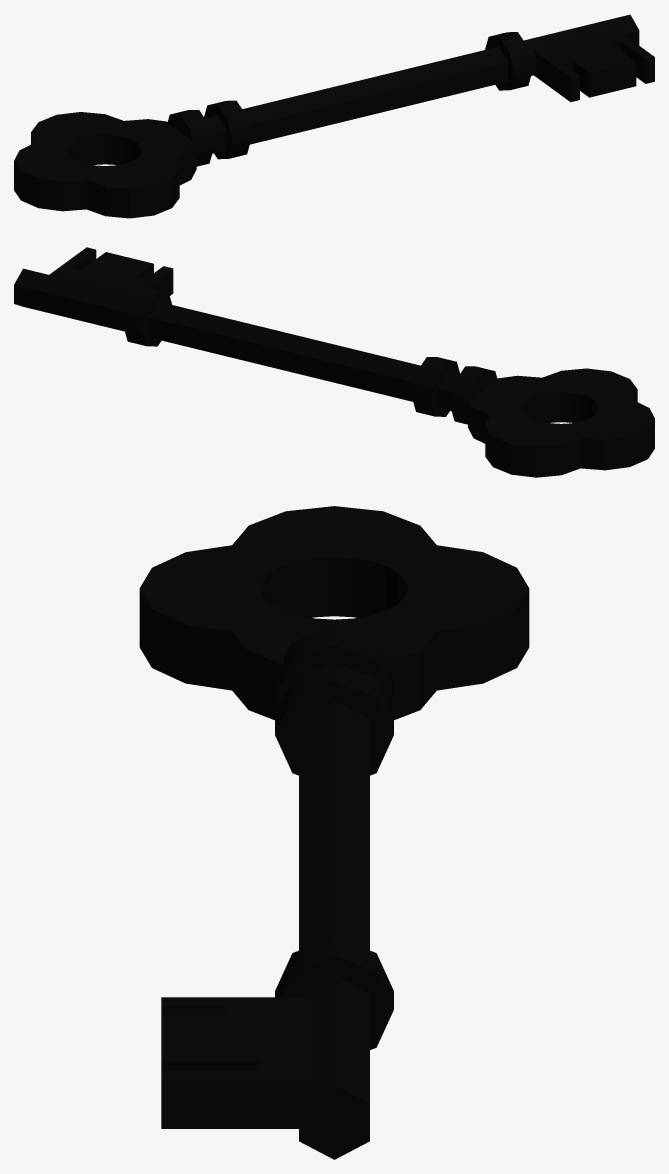
File: key_iron.fbx
3 views of the same model, one above another, from view 1: azimuth 30°, elevation 25°; view 2: azimuth 150°, elevation 25°; view 3: azimuth 270°, elevation 25° (orthographic). The views are drawn at different scales.
Parts seen in each view (by area): view 1: key_iron; view 2: key_iron; view 3: key_iron.
Part boxes in pixels (<box>): key_iron: <box>14,14,654,218</box>; key_iron: <box>14,247,654,477</box>; key_iron: <box>139,506,529,1159</box>.
Bounding box in the file's own units: 0.13 × 0.011 × 0.036.
